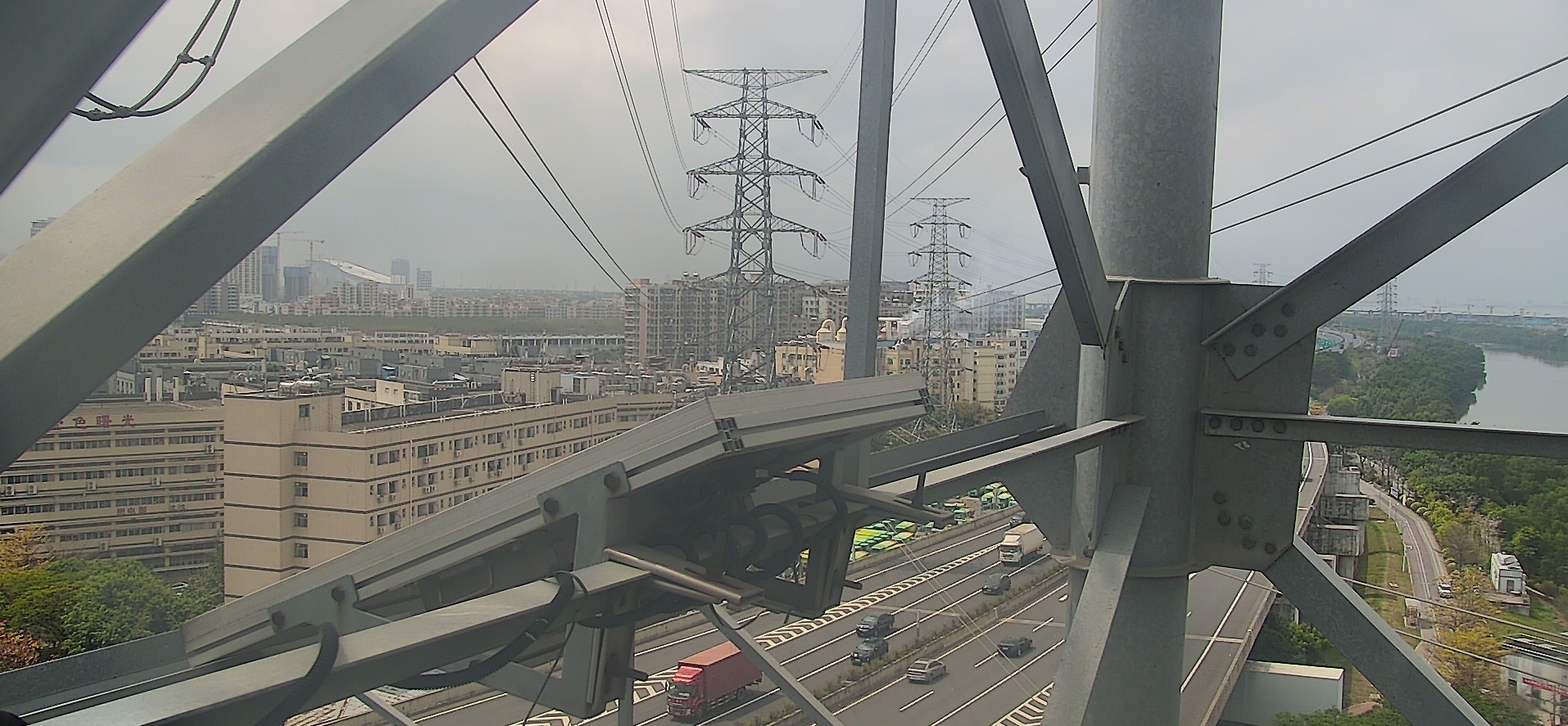烟雾: (888, 263, 1017, 341)
